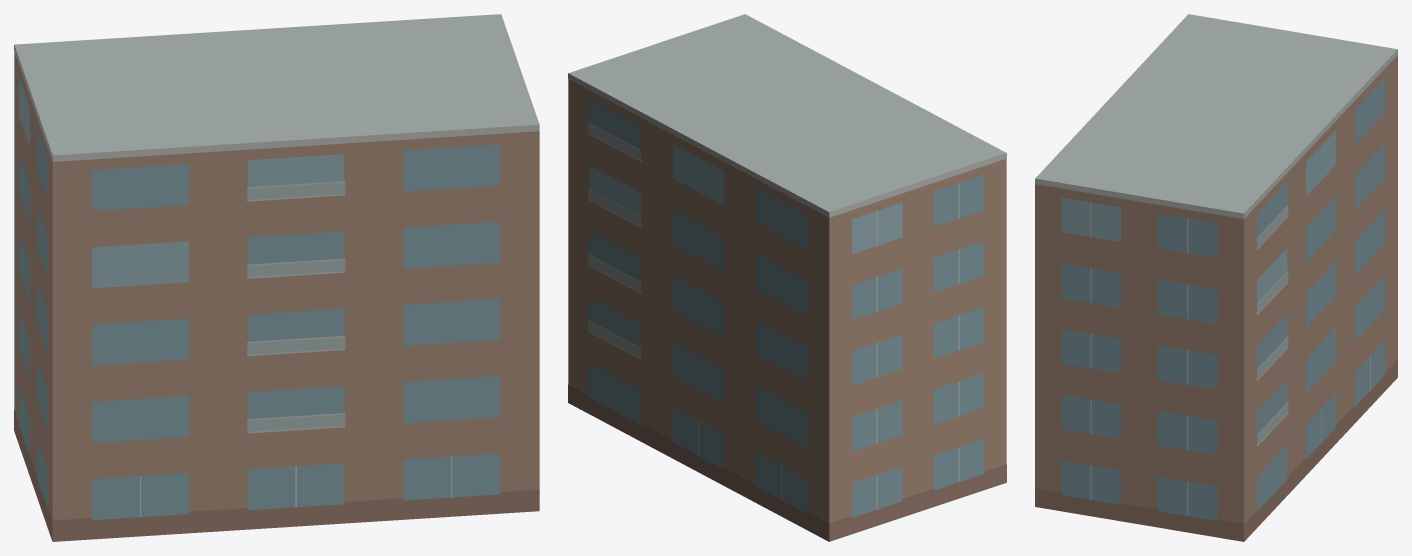
File: survey-upis-32967227.glb
3 renders of one model, left to right at view 1: azimuth 30°, elevation 25°; view 2: azimuth 150°, elevation 25°; view 3: azimuth 270°, elevation 25°, orthographic. The views are drawn at different scales.
Visible parts, largest first — view 1: survey-upis-32967227.tmp; view 2: survey-upis-32967227.tmp; view 3: survey-upis-32967227.tmp.
Boxes of the visible parts, x1,y1,x2,y2 form: survey-upis-32967227.tmp: [14, 14, 539, 541]; survey-upis-32967227.tmp: [568, 14, 1006, 541]; survey-upis-32967227.tmp: [1035, 14, 1397, 541].
Size of the model in its own units: 18.78 by 14.4 by 14.43.
